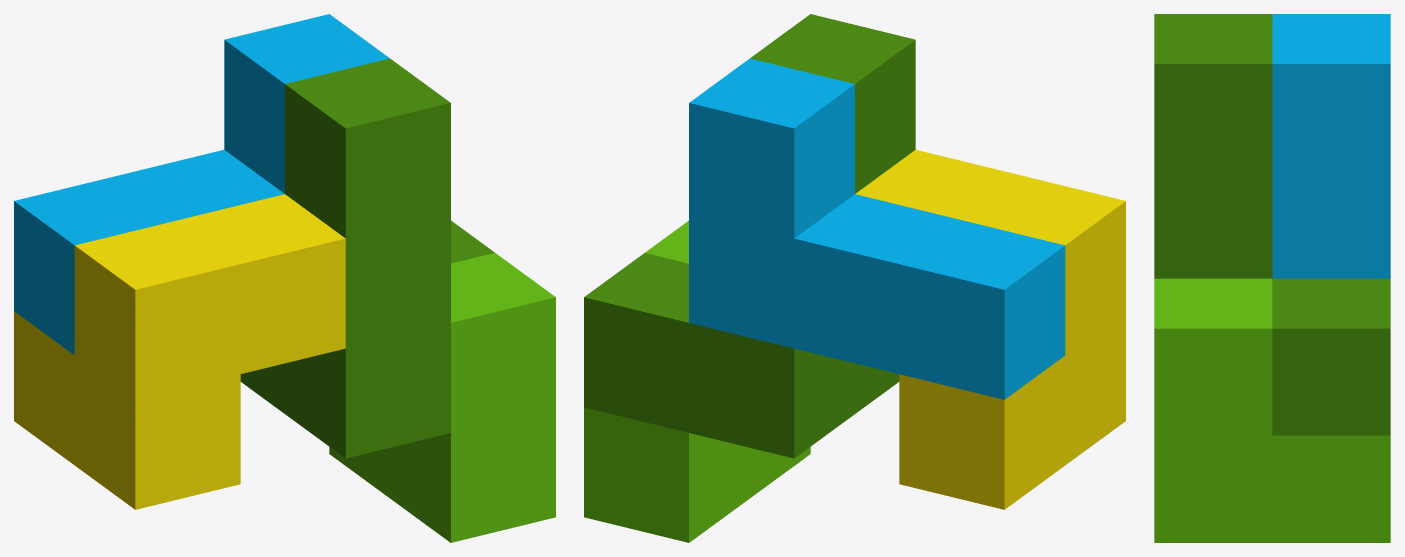
3 views of the same model, side by side, from view 1: azimuth 30°, elevation 25°; view 2: azimuth 150°, elevation 25°; view 3: azimuth 270°, elevation 25° (orthographic). The views are drawn at different scales.
Visible parts, largest first — view 1: mergedBlocks(Clone); view 2: mergedBlocks(Clone); view 3: mergedBlocks(Clone).
Part boxes in pixels (bbox=[...]): mergedBlocks(Clone): bbox=[14, 14, 555, 542]; mergedBlocks(Clone): bbox=[584, 14, 1125, 542]; mergedBlocks(Clone): bbox=[1154, 14, 1390, 542].
Bounding box in the file's own units: 4 × 4 × 2.
Materials: 4 (4 with a texture image).
